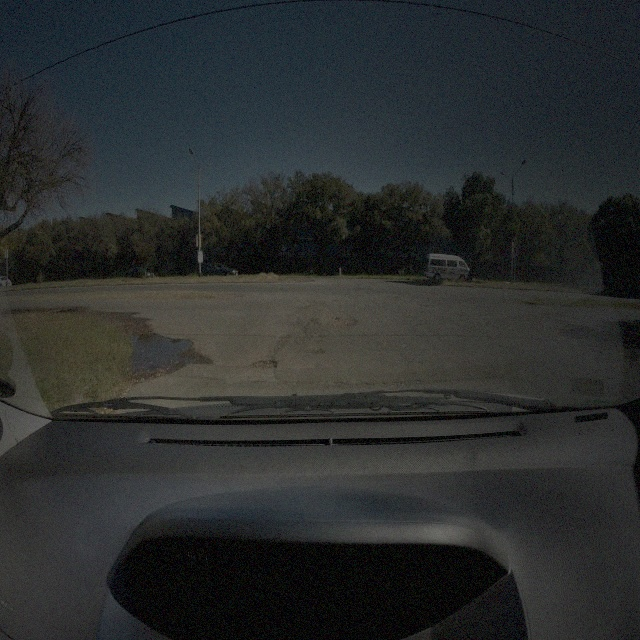pothole: (321, 314, 358, 330), (301, 339, 324, 356), (250, 357, 279, 368), (222, 291, 241, 302), (393, 294, 401, 303), (421, 303, 431, 308)
